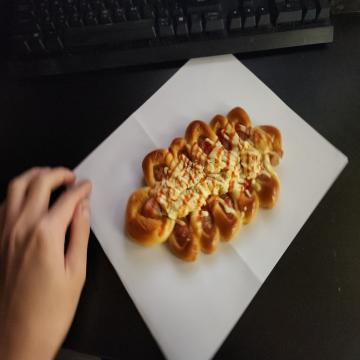pizza_bread: (123, 105, 284, 264)
